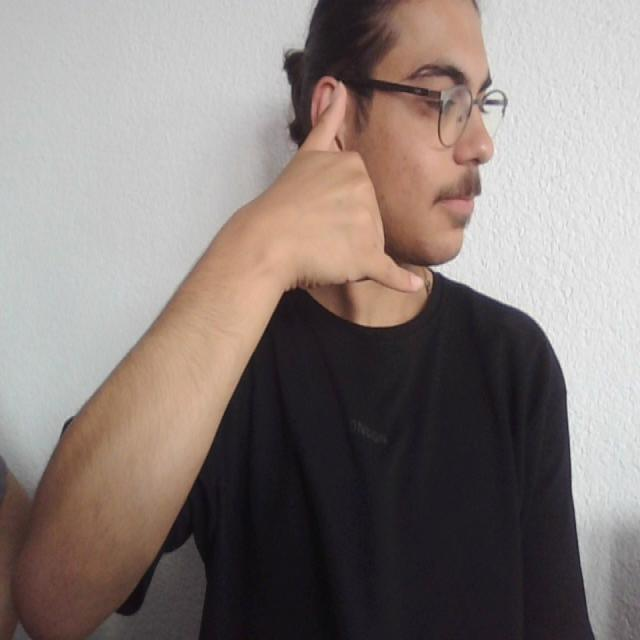Telefon: (278, 82, 428, 298)
